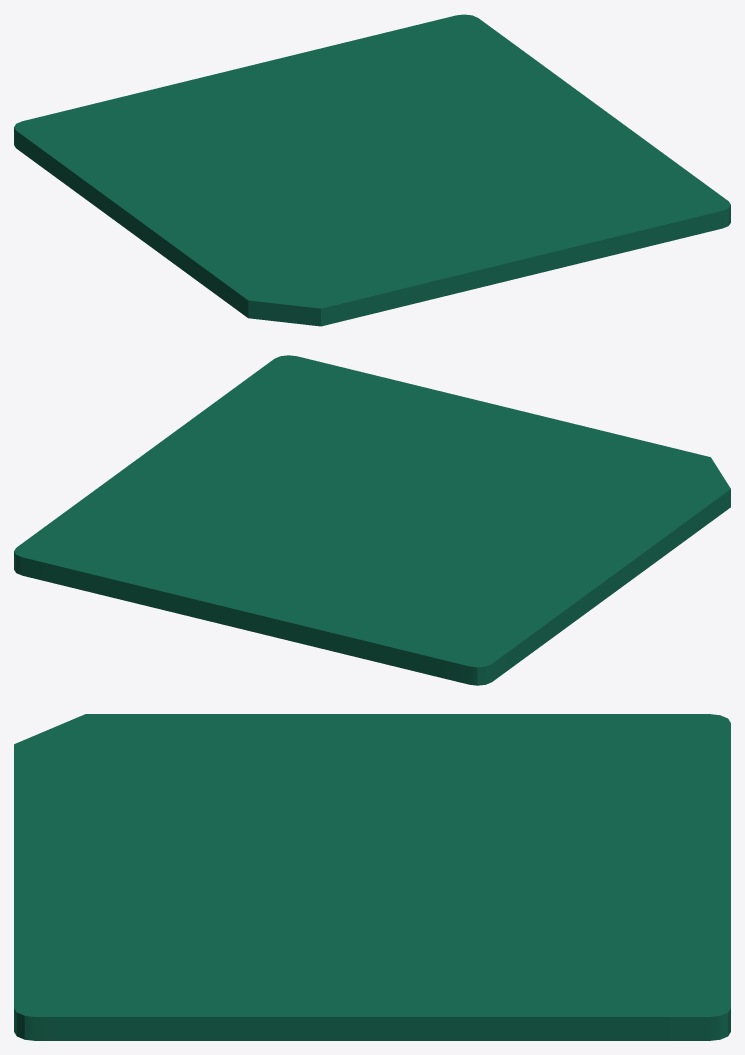
The model's file is F_FloppyDisk.fbx.
3 renders of one model, top to bottom at view 1: azimuth 30°, elevation 25°; view 2: azimuth 150°, elevation 25°; view 3: azimuth 270°, elevation 25°, orthographic. The views are drawn at different scales.
Visible parts, largest first — view 1: F_FloppyDisk; view 2: F_FloppyDisk; view 3: F_FloppyDisk.
Part boxes in pixels (x1=…): F_FloppyDisk: x1=14, y1=14, x2=730, y2=326; F_FloppyDisk: x1=14, y1=355, x2=730, y2=685; F_FloppyDisk: x1=14, y1=714, x2=730, y2=1040.
Bounding box in the file's own units: 1.44 × 0.0532 × 1.44.
